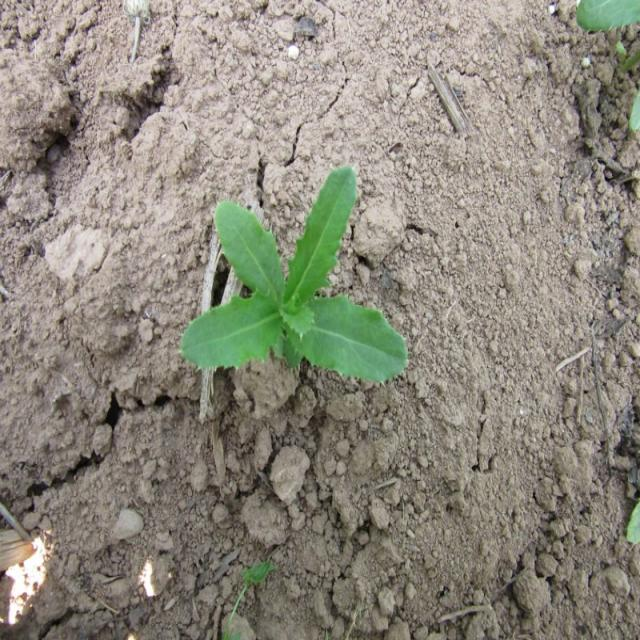cs: (179, 158, 412, 394)
